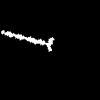half_double_crochet: (1, 31, 53, 50)
